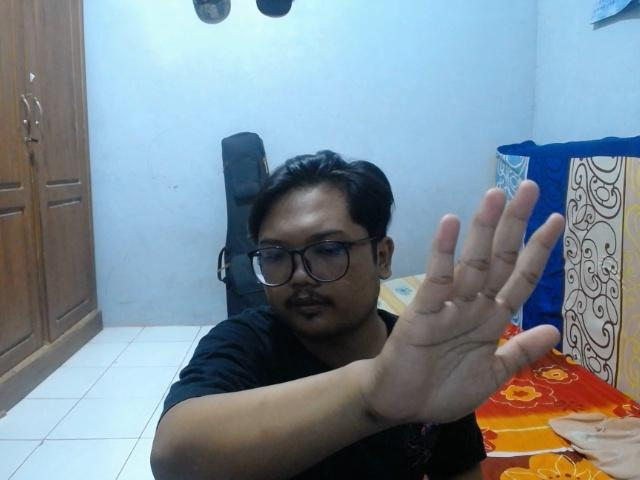Release: (365, 175, 571, 435)
